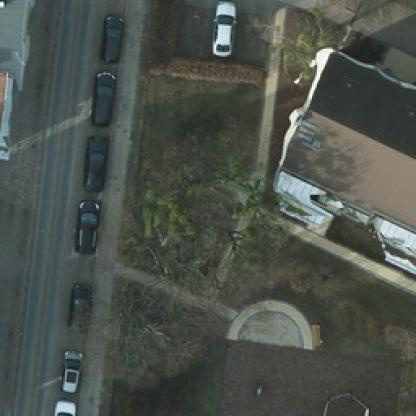car: (75, 194, 96, 254), (90, 68, 112, 122), (210, 0, 232, 54), (80, 135, 102, 188), (98, 13, 121, 63), (58, 348, 82, 395), (65, 282, 88, 328)
